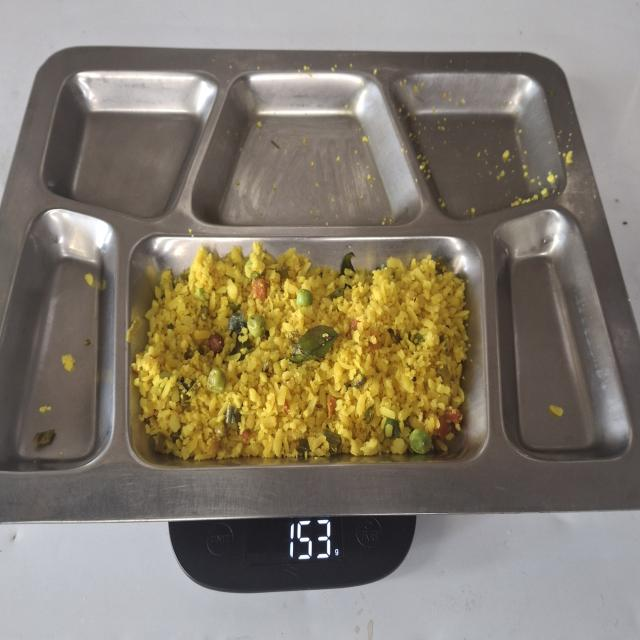Poha: (132, 238, 474, 467)
